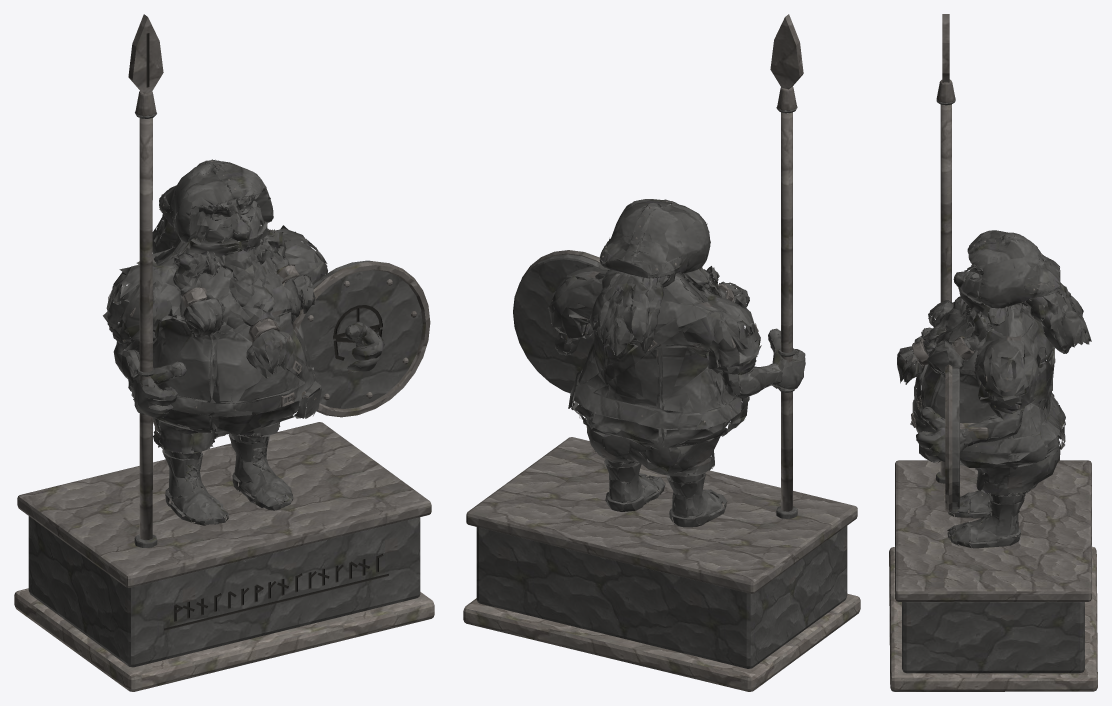
Rendered from th_honour_guard.glb.
The picture shows the model from 3 angles, left to right: view 1: azimuth 30°, elevation 25°; view 2: azimuth 150°, elevation 25°; view 3: azimuth 270°, elevation 25°; orthographic projection. The views are drawn at different scales.
Parts seen in each view (by area): view 1: model; view 2: model; view 3: model.
Part boxes in pixels (<box>): model: <box>14,14,434,691</box>; model: <box>463,14,860,691</box>; model: <box>889,14,1097,691</box>.
Bounding box in the file's own units: 1.49 × 2.74 × 0.912.
4 materials, 3 textured.
